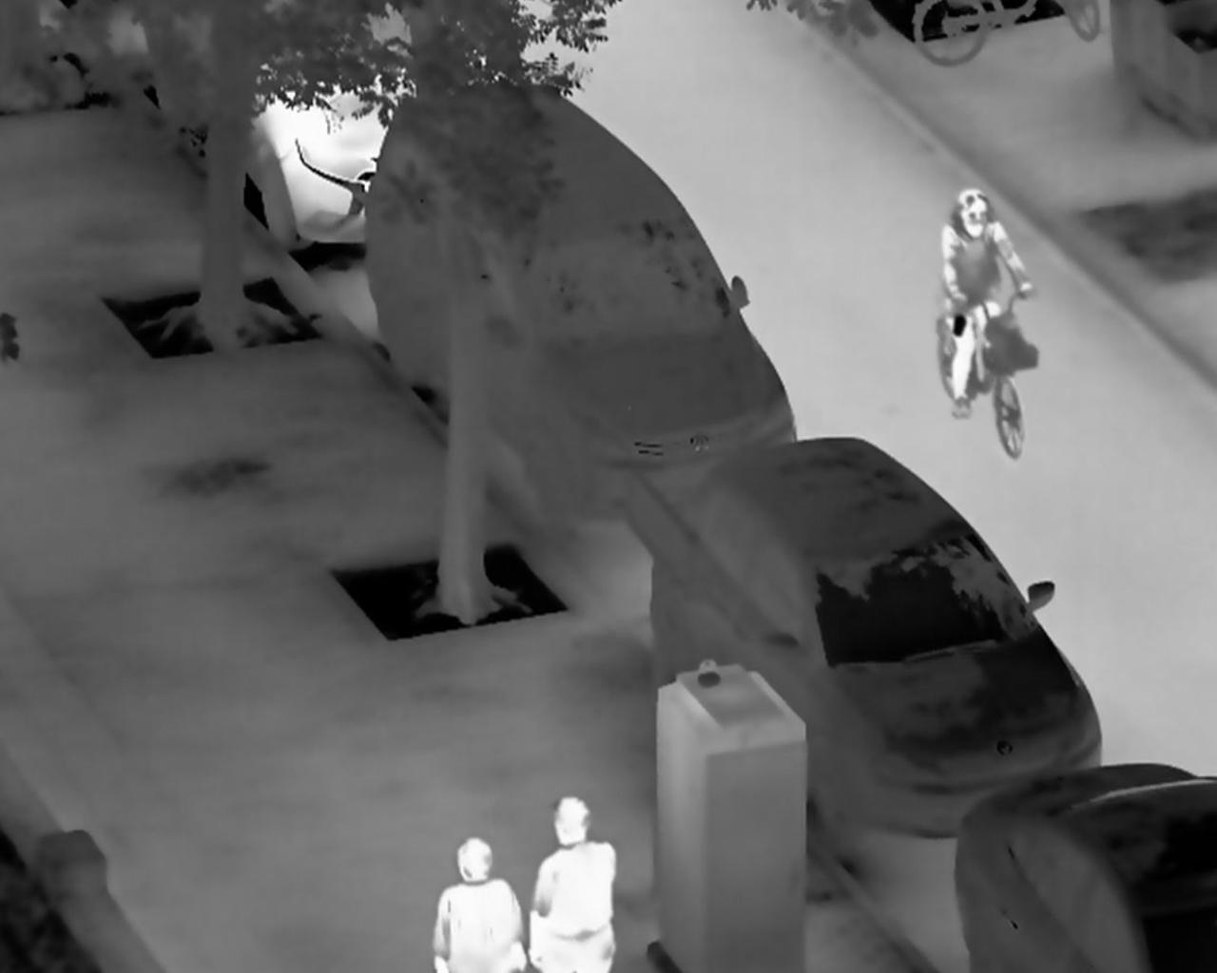person: (939, 187, 1037, 420), (529, 794, 618, 973), (429, 837, 531, 973)
